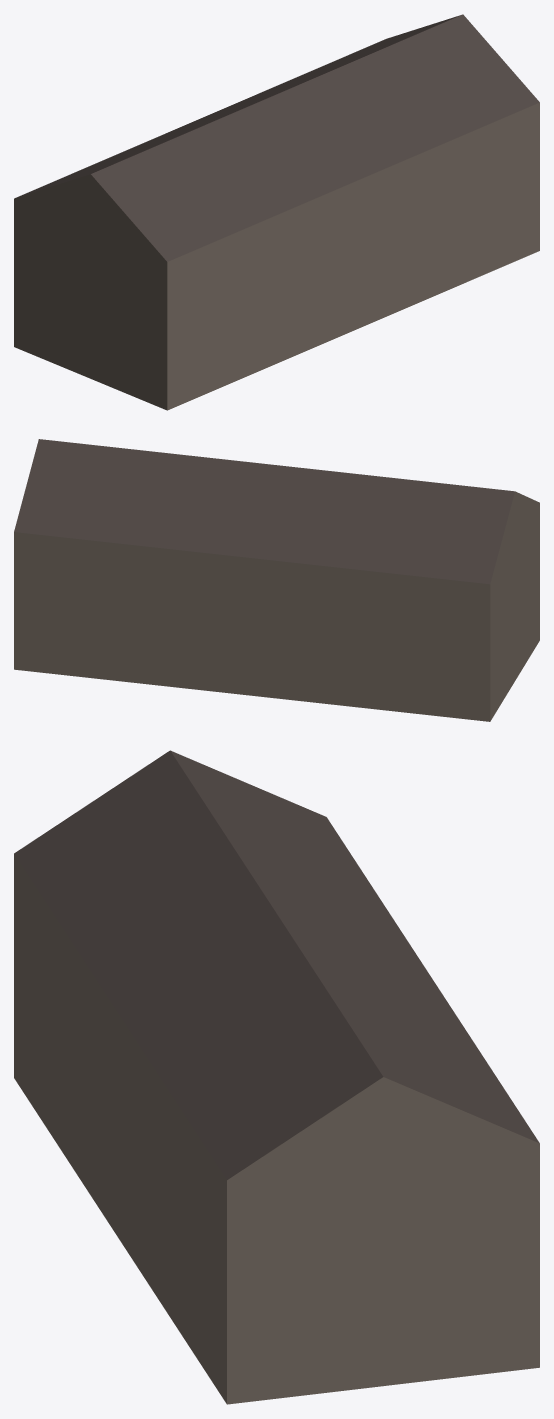
3 renders of one model, top to bottom at view 1: azimuth 30°, elevation 25°; view 2: azimuth 150°, elevation 25°; view 3: azimuth 270°, elevation 25°, orthographic. The views are drawn at different scales.
Visible parts, largest first — view 1: HP-w859424231; view 2: HP-w859424231; view 3: HP-w859424231.
Part boxes in pixels (x1,y1,x2,y2): HP-w859424231: [14, 14, 539, 410]; HP-w859424231: [14, 439, 539, 721]; HP-w859424231: [14, 750, 539, 1404].
Bounding box in the file's own units: 31.28 × 12.41 × 19.14.
